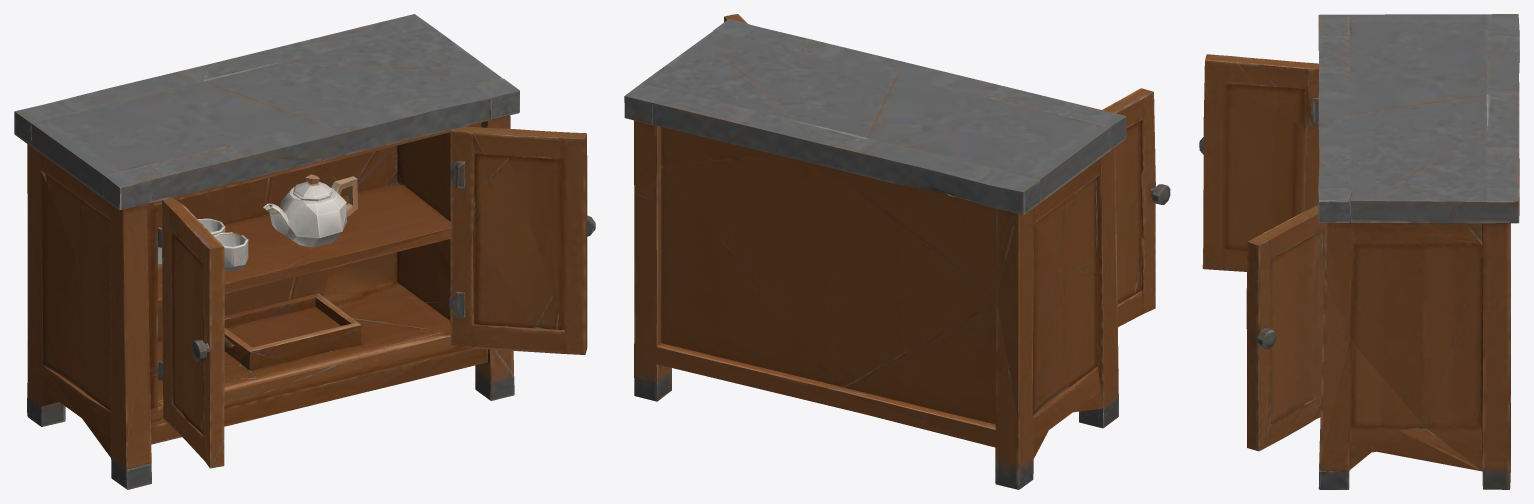
Rendered from teaSideboard.glb.
3 views of the same model, side by side, from view 1: azimuth 30°, elevation 25°; view 2: azimuth 150°, elevation 25°; view 3: azimuth 270°, elevation 25° (orthographic). The views are drawn at different scales.
Visible parts, largest first — view 1: Mesh_0; view 2: Mesh_0; view 3: Mesh_0.
Boxes of the visible parts, <box> form: Mesh_0: <box>14,14,595,489</box>; Mesh_0: <box>624,14,1170,489</box>; Mesh_0: <box>1199,14,1519,489</box>.
Size of the model in its own units: 0.7718 by 0.5019 by 0.5.
Materials: 1 (1 with a texture image).
